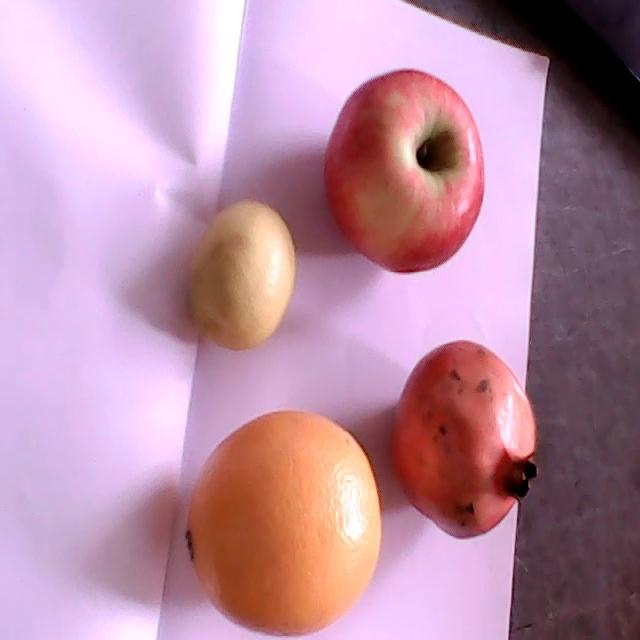apple: (323, 68, 486, 273)
lemon: (185, 201, 295, 349)
orange: (186, 409, 381, 635)
pomegranate: (389, 340, 538, 540)
